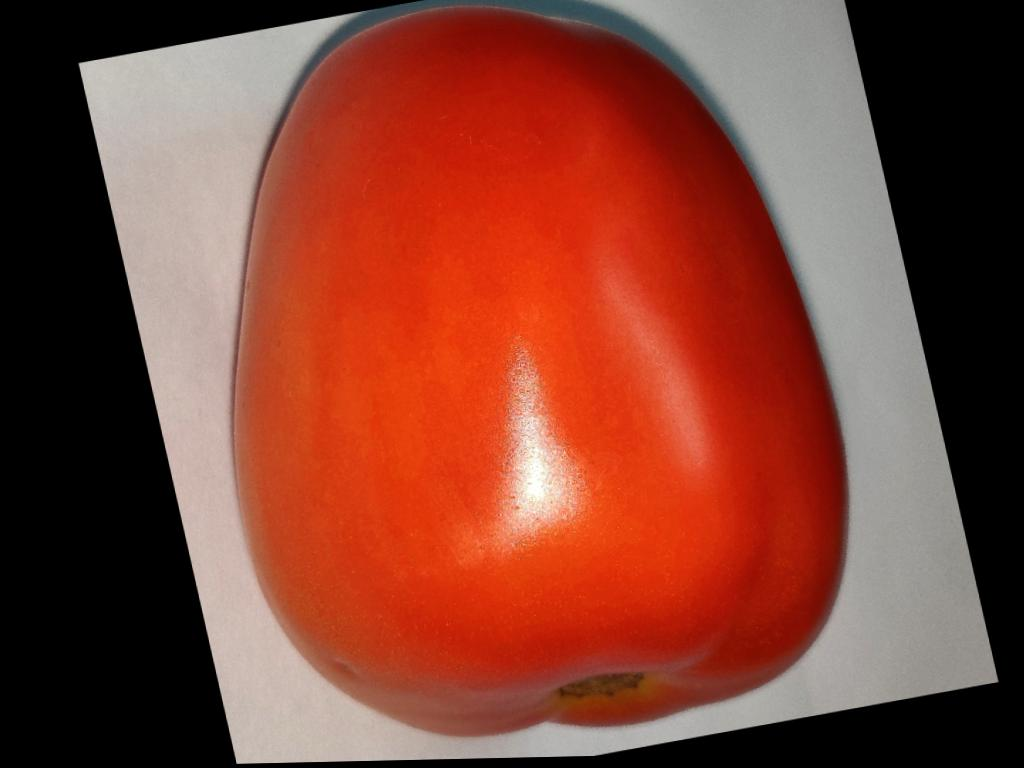tomato: (234, 6, 846, 735)
